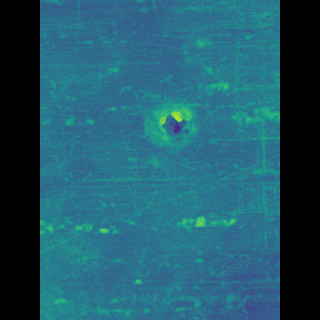Loch: (154, 102, 184, 146)
